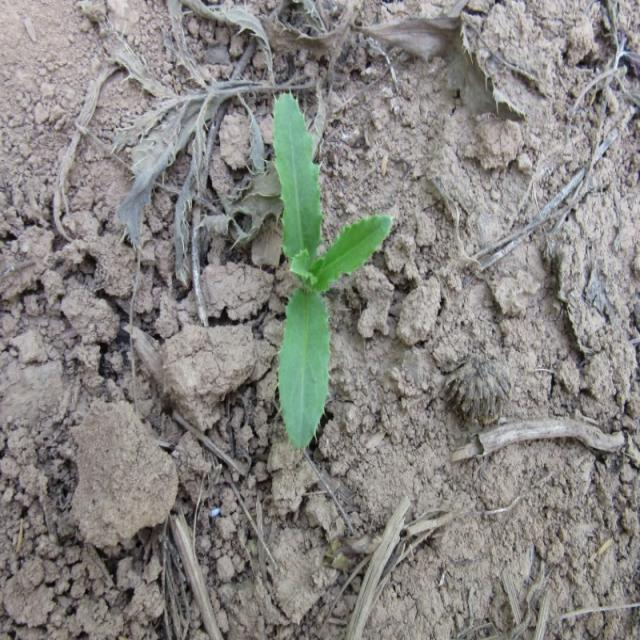field_thistle: (260, 81, 410, 445)
